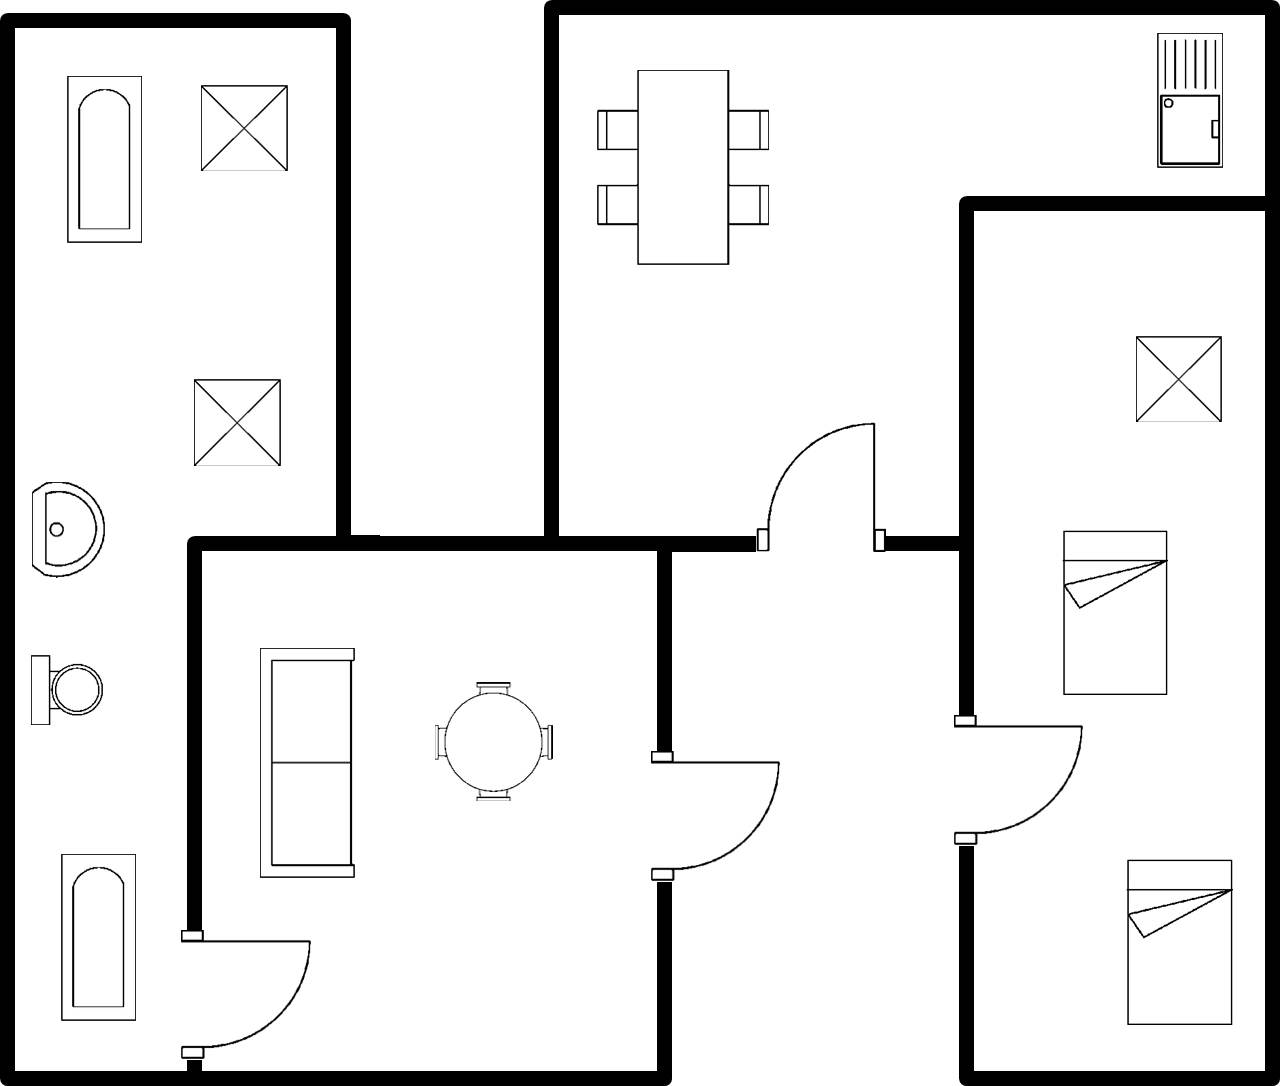bed: (1119, 852, 1241, 1035), (1055, 523, 1177, 701)
coffee_table: (185, 365, 288, 476), (1124, 326, 1231, 431), (193, 77, 295, 180)
dining_table: (590, 62, 781, 270)
large_sink: (22, 645, 112, 736)
large_sofa: (254, 639, 364, 888)
round_table: (428, 674, 563, 807)
sink: (1151, 23, 1230, 177)
small_sink: (21, 475, 112, 585)
tub: (57, 67, 153, 253), (53, 845, 144, 1032)
